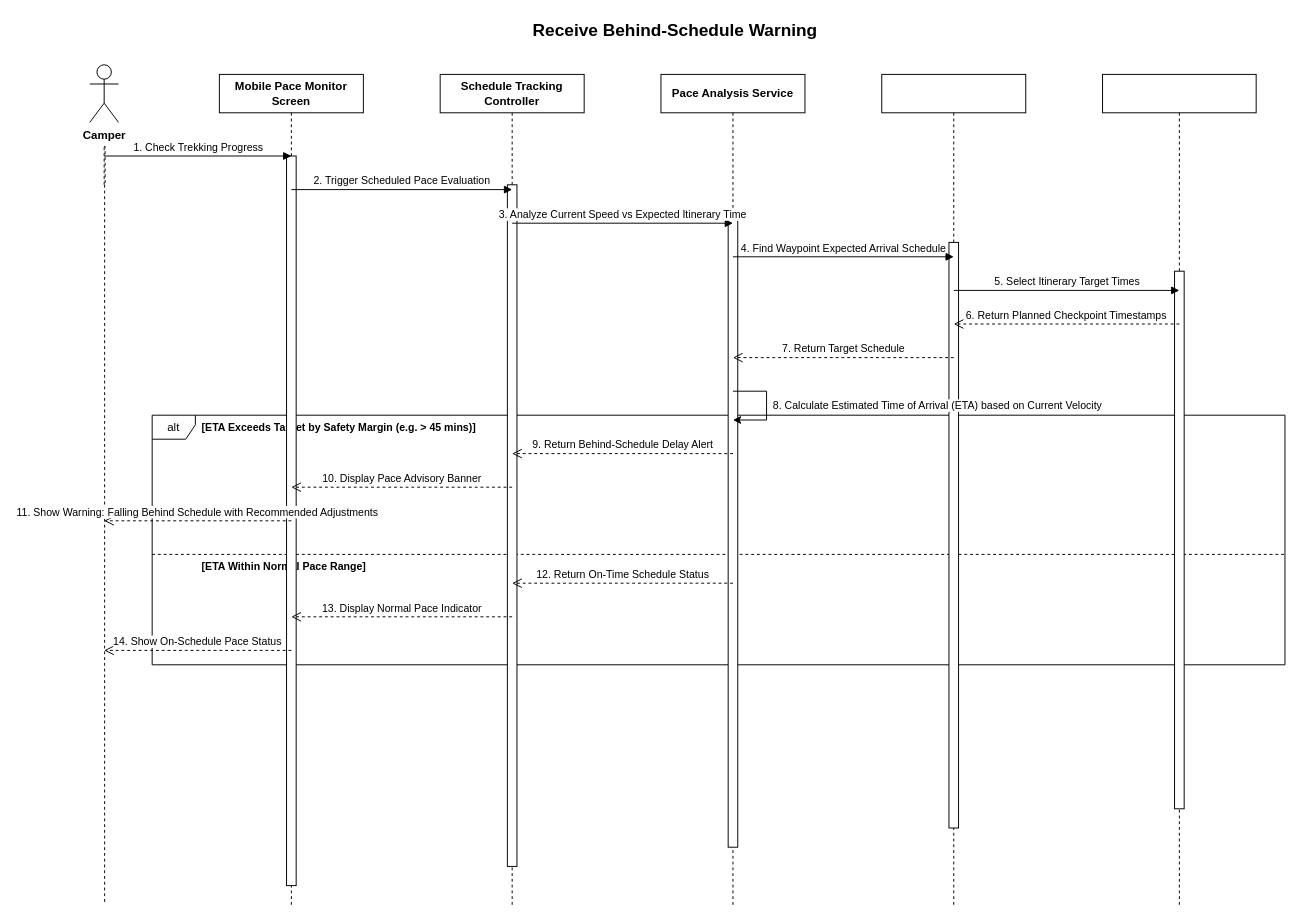
This 1302x922 diagram has some shape labels left out. Here are the shapes that lost their labels. From the top down, the box of each, then its label:
(881, 73, 1026, 905): Itinerary Waypoint Model
(1102, 73, 1256, 905): Local SQLite Storage
